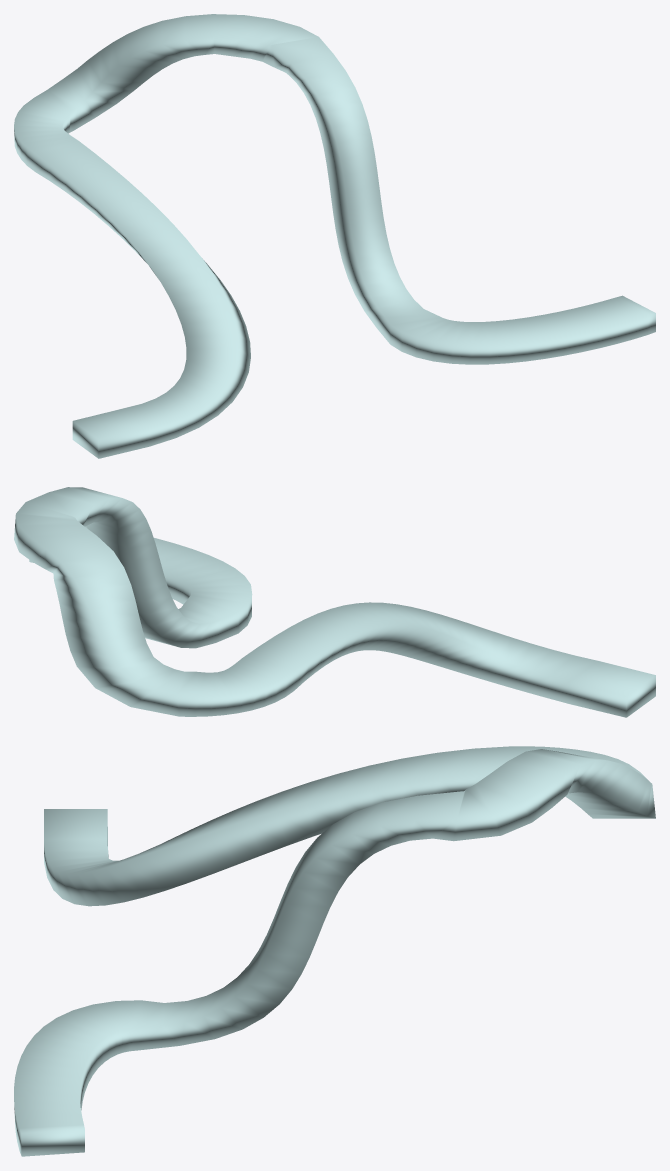
The model's file is second pt.fbx.
3 renders of one model, top to bottom at view 1: azimuth 30°, elevation 25°; view 2: azimuth 150°, elevation 25°; view 3: azimuth 270°, elevation 25°, orthographic. The views are drawn at different scales.
Parts seen in each view (by area): view 1: Cube.003; view 2: Cube.003; view 3: Cube.003.
Part boxes in pixels (bbox=[...]): Cube.003: bbox=[14, 14, 655, 458]; Cube.003: bbox=[14, 487, 655, 717]; Cube.003: bbox=[14, 746, 655, 1156].
Bounding box in the file's own units: 1910 × 693 × 1595.
